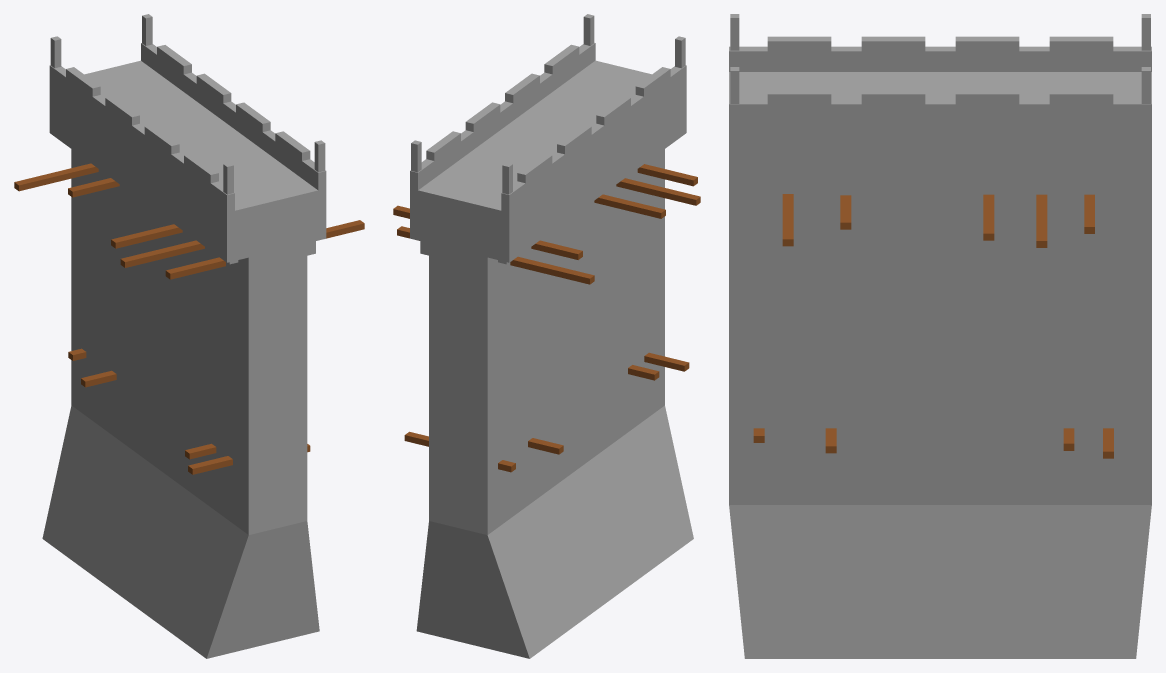
Rendered from Castle_New_Wall_Eastern_Section_03.fbx.
The picture shows the model from 3 angles, left to right: view 1: azimuth 30°, elevation 25°; view 2: azimuth 150°, elevation 25°; view 3: azimuth 270°, elevation 25°; orthographic projection. The views are drawn at different scales.
Visible parts, largest first — view 1: Model; view 2: Model; view 3: Model.
Part boxes in pixels (bbox=[...]): Model: bbox=[14, 14, 364, 658]; Model: bbox=[393, 14, 700, 658]; Model: bbox=[729, 14, 1151, 658].
Bounding box in the file's own units: 919 × 1984 × 1295.
